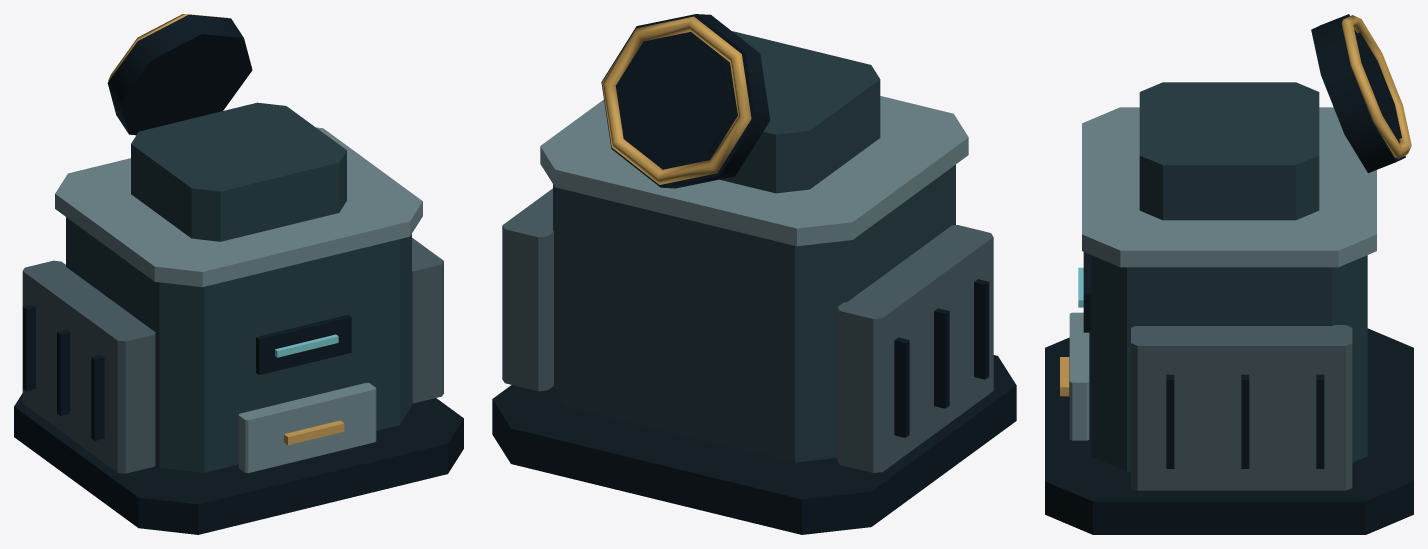
The model's file is furnace_d0_lod2.meshopt.glb.
The picture shows the model from 3 angles, left to right: view 1: azimuth 30°, elevation 25°; view 2: azimuth 150°, elevation 25°; view 3: azimuth 270°, elevation 25°; orthographic projection. The views are drawn at different scales.
Visible parts, largest first — view 1: DISTANCE_STATIC; view 2: DISTANCE_STATIC; view 3: DISTANCE_STATIC.
Boxes of the visible parts, x1=… form: DISTANCE_STATIC: x1=14, y1=14, x2=463, y2=534; DISTANCE_STATIC: x1=492, y1=14, x2=1016, y2=534; DISTANCE_STATIC: x1=1045, y1=14, x2=1413, y2=534.
Bounding box in the file's own units: 3.56 × 3.85 × 3.
